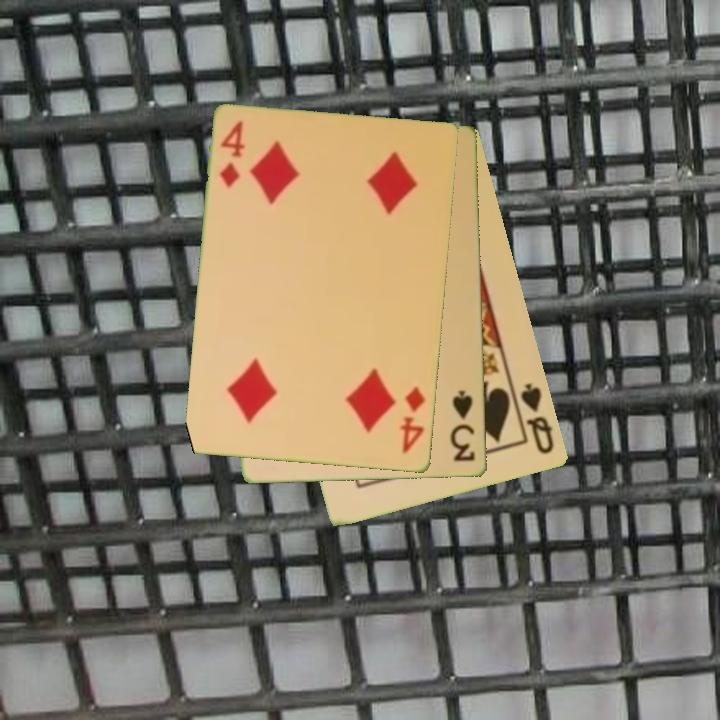3s: (448, 387, 479, 465)
4d: (216, 117, 248, 191), (397, 384, 429, 456)
Qs: (518, 379, 557, 457)
